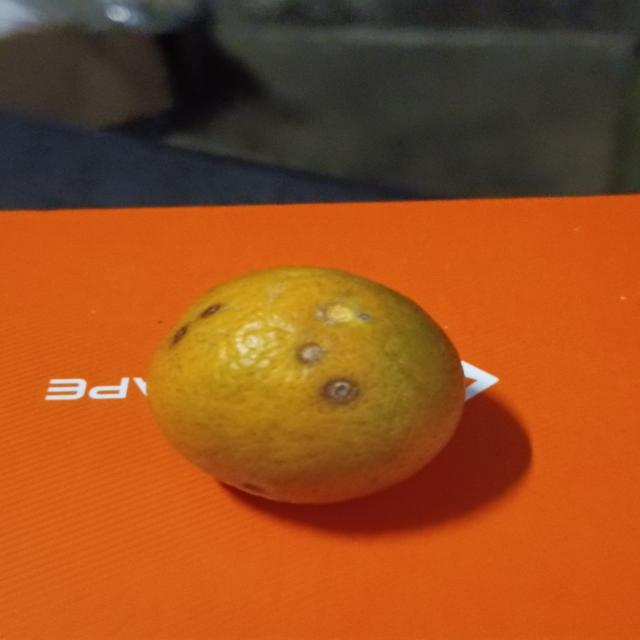black spot: (147, 263, 468, 508)
